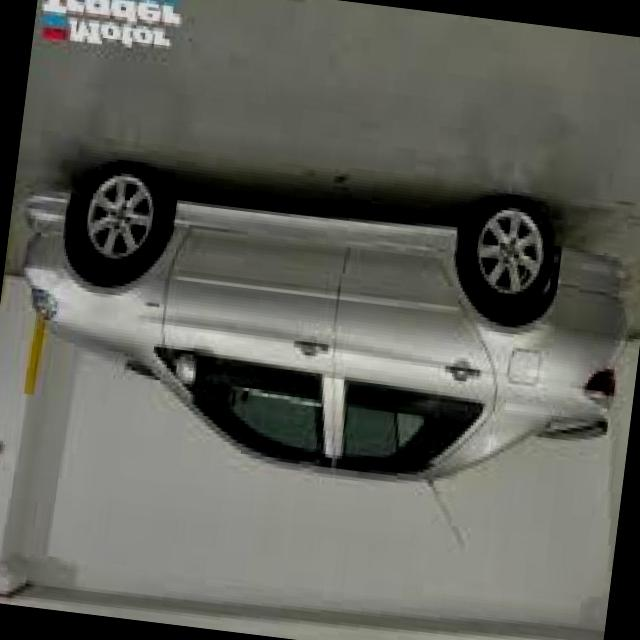ToyotaVios: (0, 137, 640, 515)
